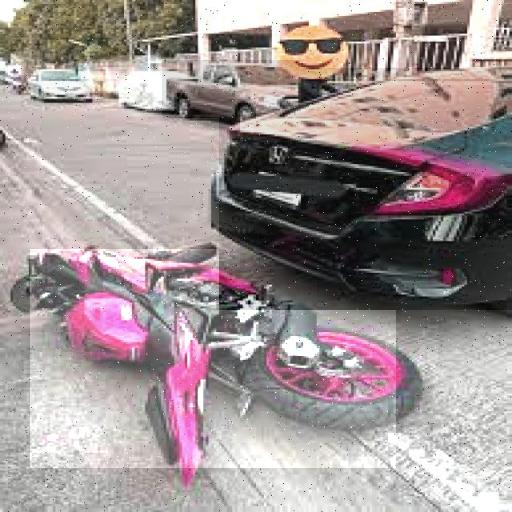小汽车: (219, 68, 512, 310), (162, 60, 300, 118), (28, 65, 88, 106)
自行车: (30, 249, 396, 468)
